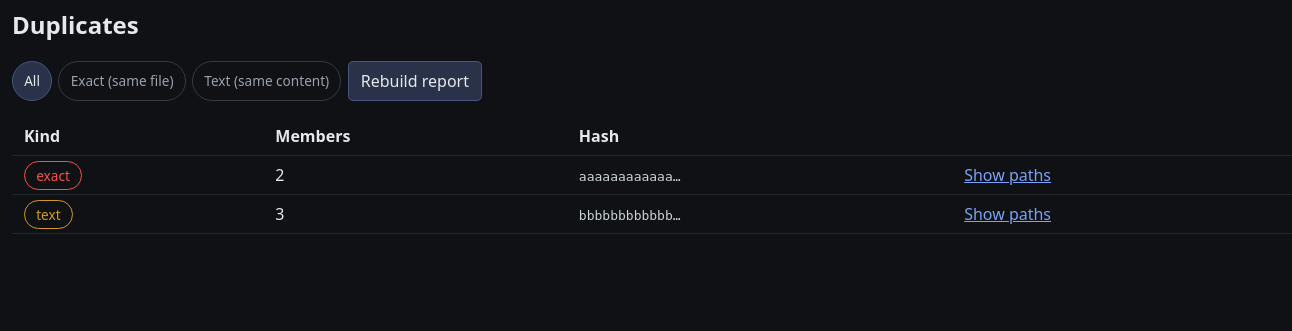
lists duplicate groups and expands member paths
Expected: the text "exact" is shown, 24,161 -> 82,190
Expected: the text "text" is shown, 24,200 -> 73,229
Click the 1st button "Show paths".
click(1008, 175)  # box 964,164 -> 1051,186
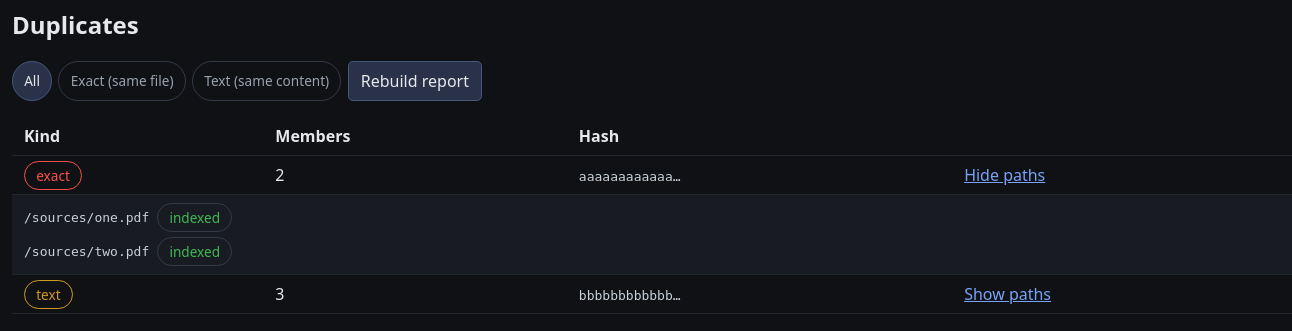
Expected: the text "/sources/one.pdf" is shown, 24,210 -> 149,225
Expected: the text "/sources/two.pdf" is shown, 24,244 -> 149,259
